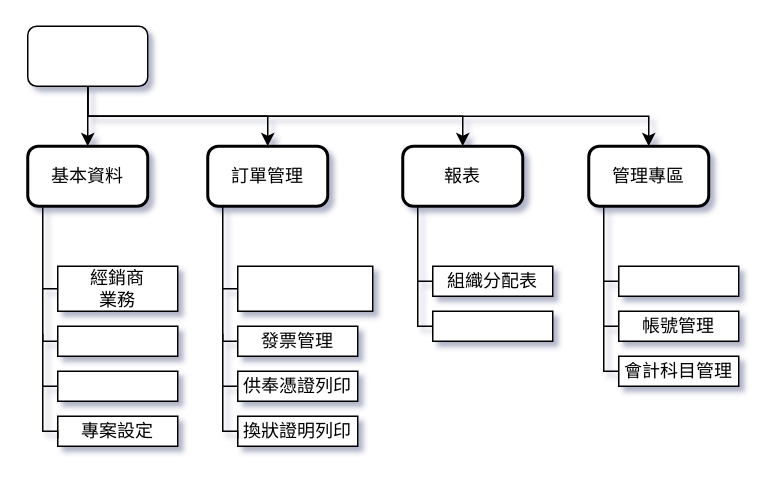
Image size: 774x482. Some labels were removed from this diagram. The shapes that lost their labels are listed below. From the top down, each one's box as (x1, y1, x2, y2) in pixels, then its label:
(26, 25, 148, 86): 熹樂內部 獎金系統
(236, 265, 373, 311): 訂單管理 新增/修改/作廢
(617, 265, 739, 296): 系統設定
(56, 325, 178, 356): 客戶資料
(431, 310, 553, 341): 業績報表
(56, 370, 178, 401): 產品設定
